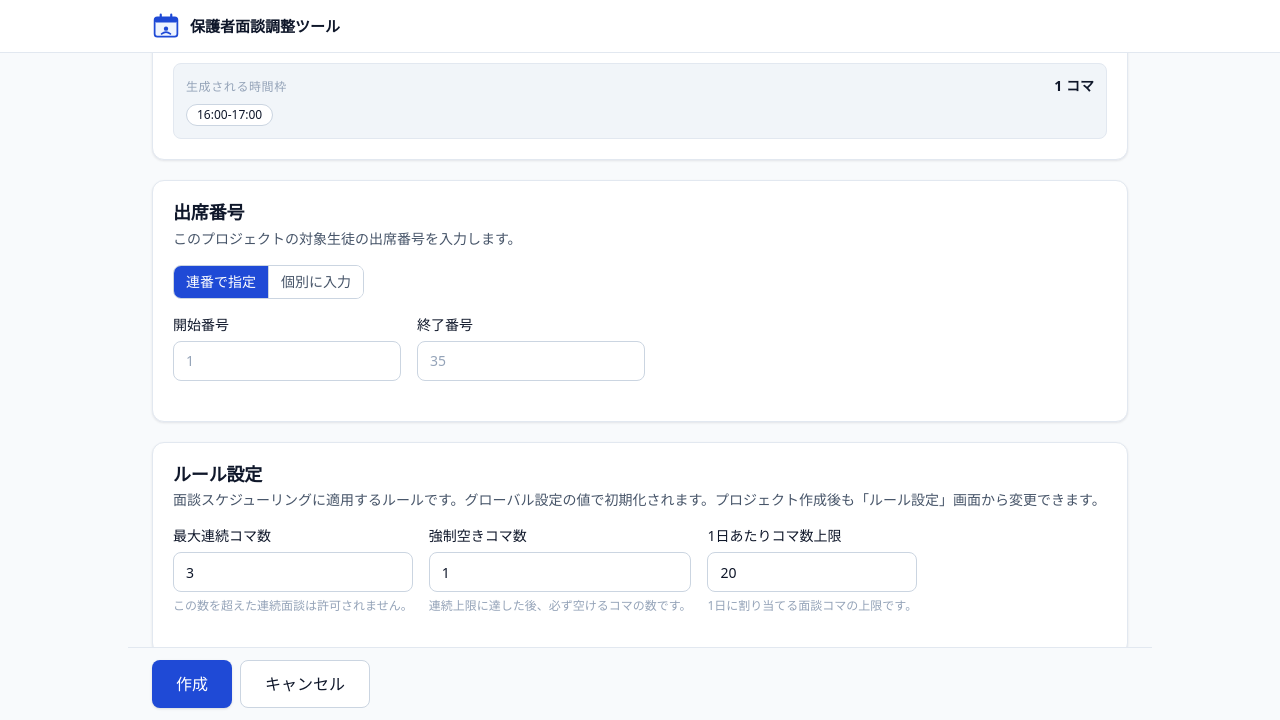
Test: ProjectNewPage › 終了番号が開始番号より小さいと警告を表示する
(page scrolled)
In the number field labelled "開始番号": (287, 361) [173, 341, 401, 381], type "5"
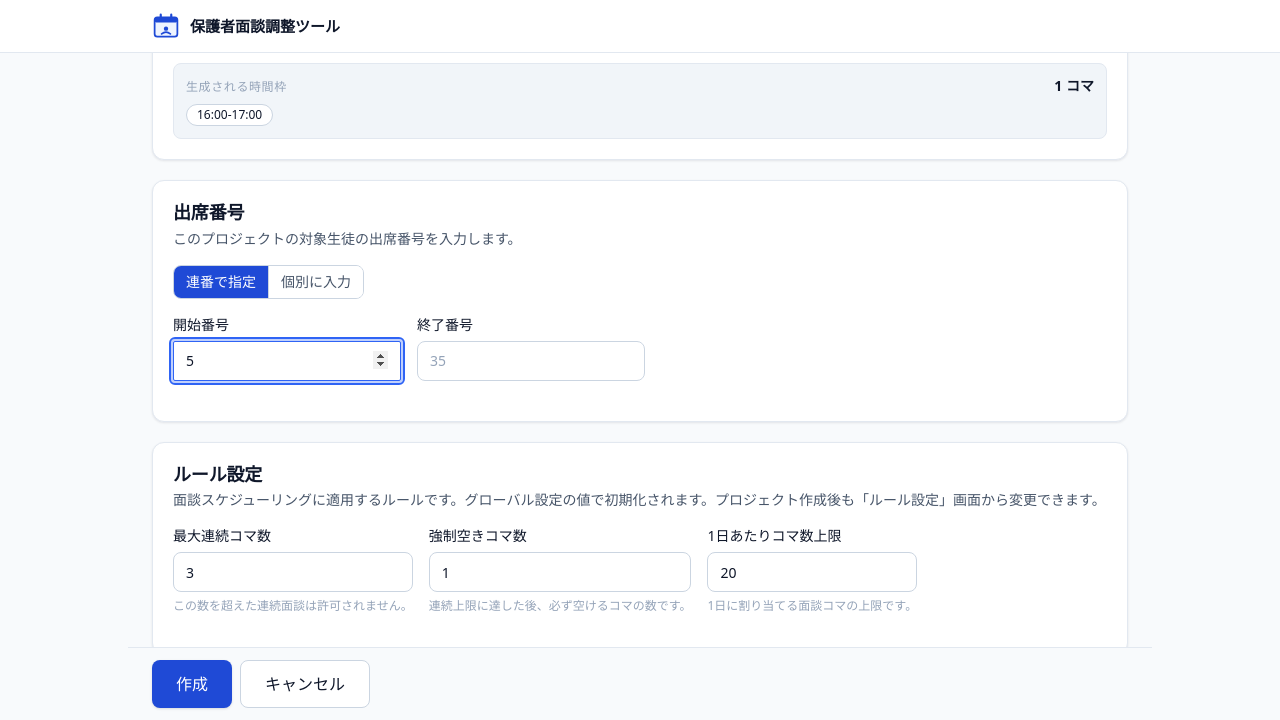
In the number field labelled "終了番号": (531, 361) [417, 341, 645, 381], type "2"
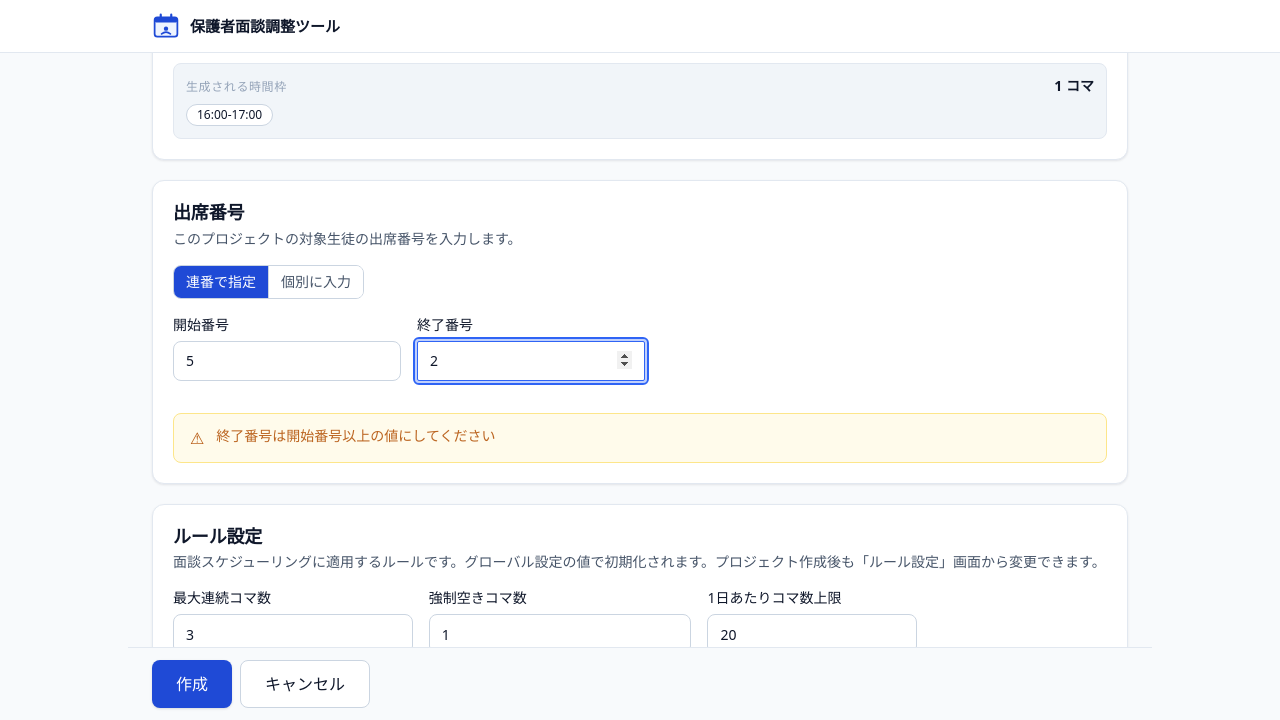
Check: the text "終了番号は開始番号以上の値にしてください" is shown, box [216, 426, 496, 445]
